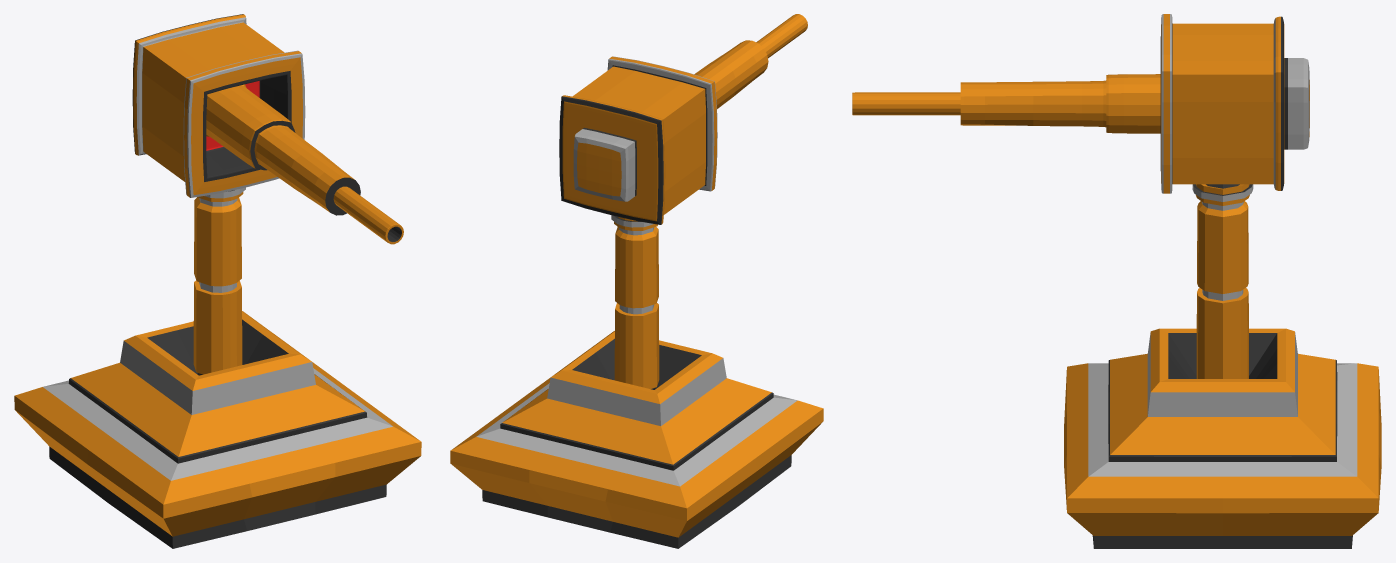
The model's file is Turret.fbx.
3 views of the same model, side by side, from view 1: azimuth 30°, elevation 25°; view 2: azimuth 150°, elevation 25°; view 3: azimuth 270°, elevation 25° (orthographic). The views are drawn at different scales.
Parts seen in each view (by area): view 1: TurretBase, TurretHead, TurretBody; view 2: TurretBase, TurretHead, TurretBody; view 3: TurretBase, TurretHead, TurretBody.
Boxes of the visible parts, box(x1,y1,x2,y2) form: TurretBase: box(14, 311, 421, 548); TurretHead: box(132, 14, 403, 244); TurretBody: box(193, 187, 245, 375); TurretBase: box(450, 331, 823, 548); TurretHead: box(559, 14, 807, 224); TurretBody: box(611, 215, 659, 389); TurretBase: box(1064, 328, 1381, 548); TurretHead: box(852, 14, 1309, 193); TurretBody: box(1192, 184, 1253, 378).
Size of the model in its own units: 227 by 358 by 378.
